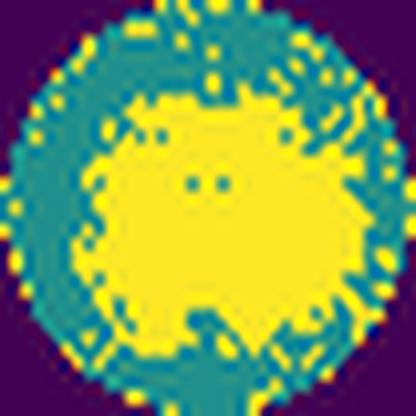Center: (76, 90, 370, 357)
